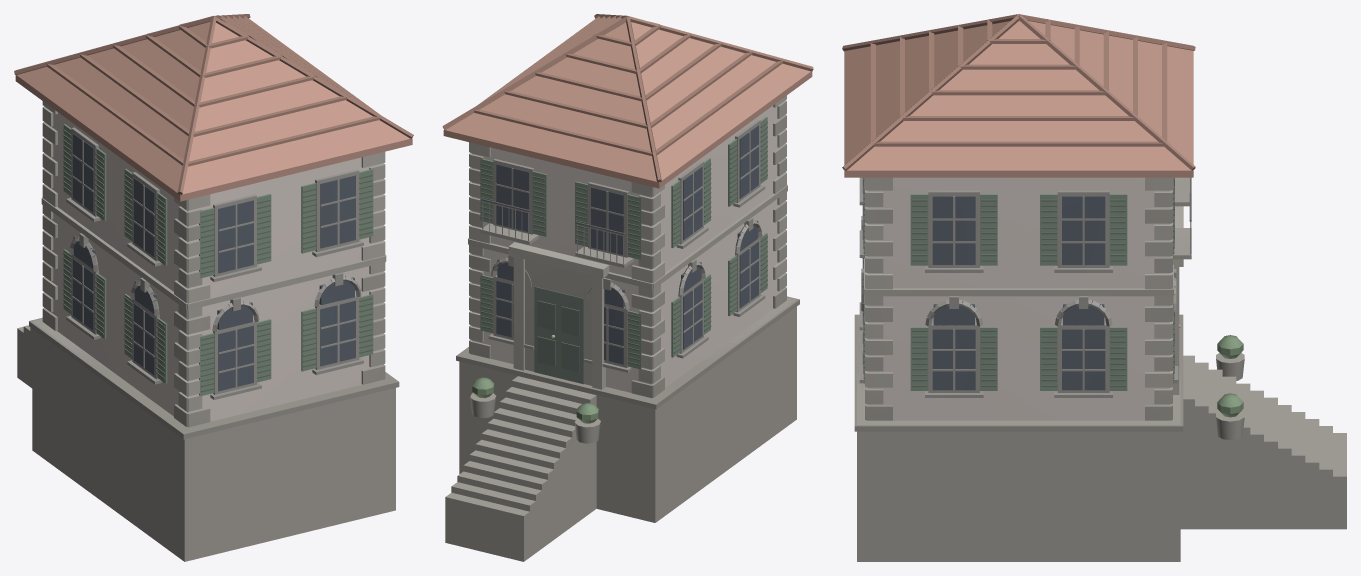
The model's file is house_2_4.gltf.
3 views of the same model, side by side, from view 1: azimuth 30°, elevation 25°; view 2: azimuth 150°, elevation 25°; view 3: azimuth 270°, elevation 25° (orthographic). The views are drawn at different scales.
Parts seen in each view (by area): view 1: Body; view 2: Body; view 3: Body.
Part boxes in pixels (x1=…): Body: x1=14, y1=14, x2=413, y2=561; Body: x1=442, y1=14, x2=813, y2=561; Body: x1=842, y1=14, x2=1346, y2=561.
Size of the model in its own units: 6.71 by 12.6 by 11.7.
